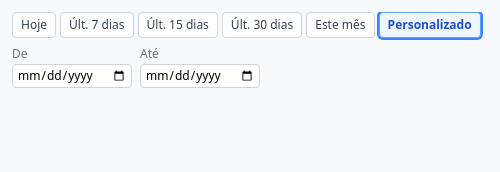
Scenario: DateRangePresets › shows resolved absolute dates after selecting a preset (not Personalizado)
The width and height of the screenshot is (500, 172).
Click the button "Hoje". click: (34, 25)
box: [12,12,56,38]
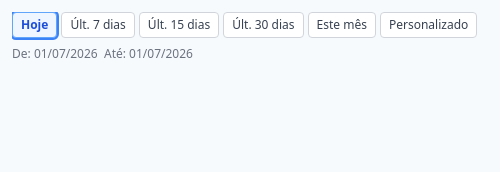
Now the text "De: 01/07/2026 Até: 01/07/2026" is shown, box [12,45,193,62]
